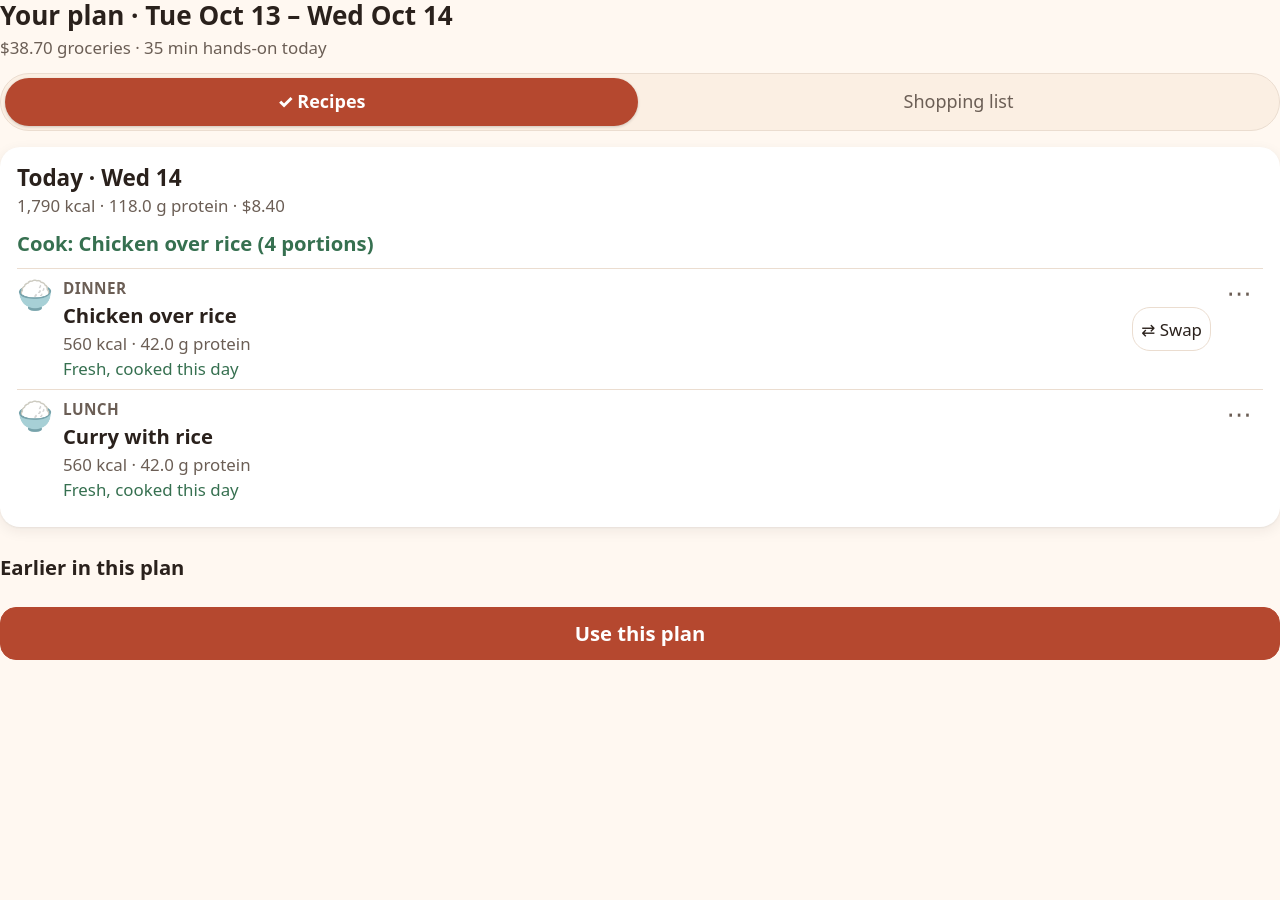
it: Swap in the plan view › the meal row's ⋯ sheet opens the same Swap sheet
Click the button named "More for Chicken over rice".
click(1239, 293)  # box [1215,269,1263,317]
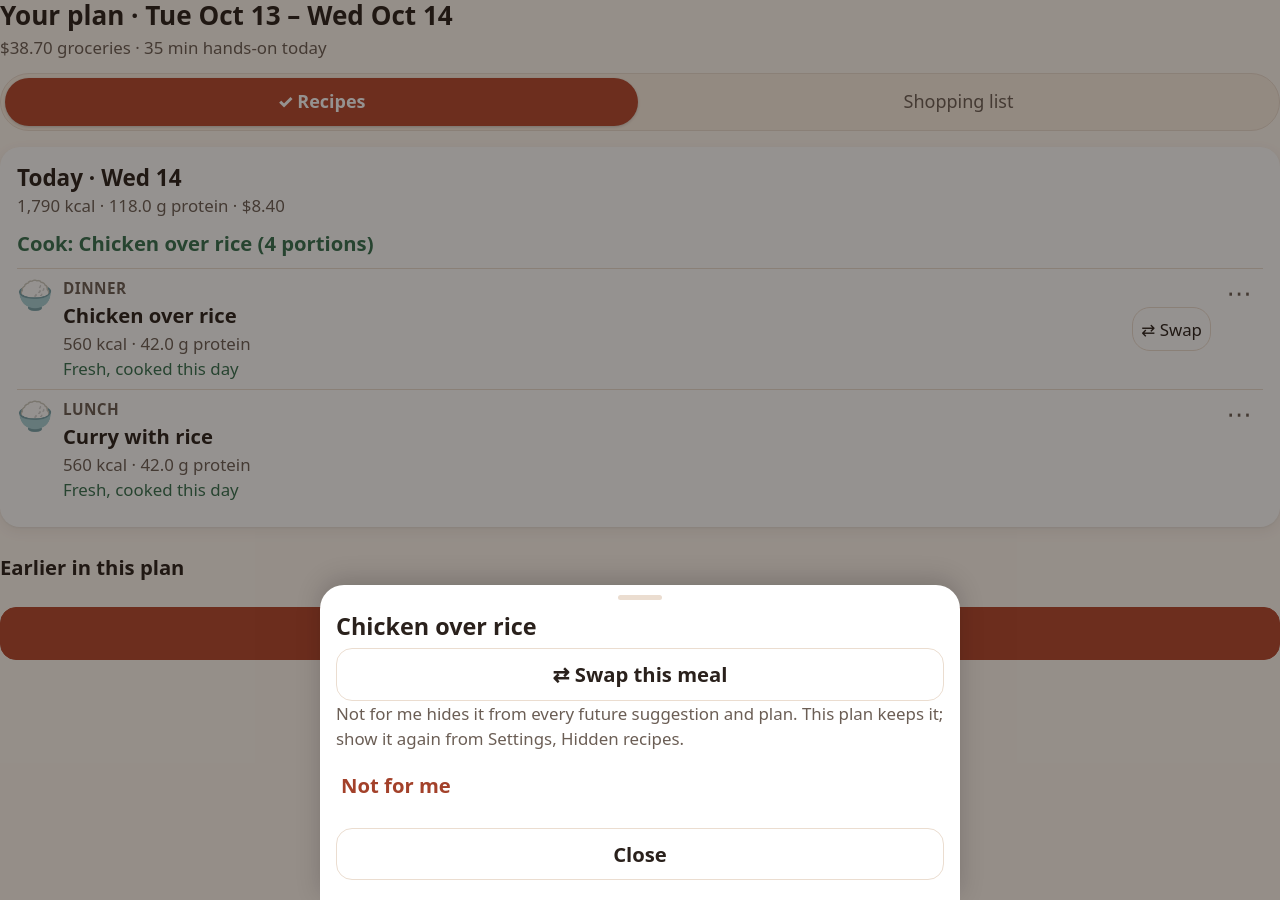
Click the button "⇄ Swap this meal".
click(640, 674)  # box [336,648,944,701]
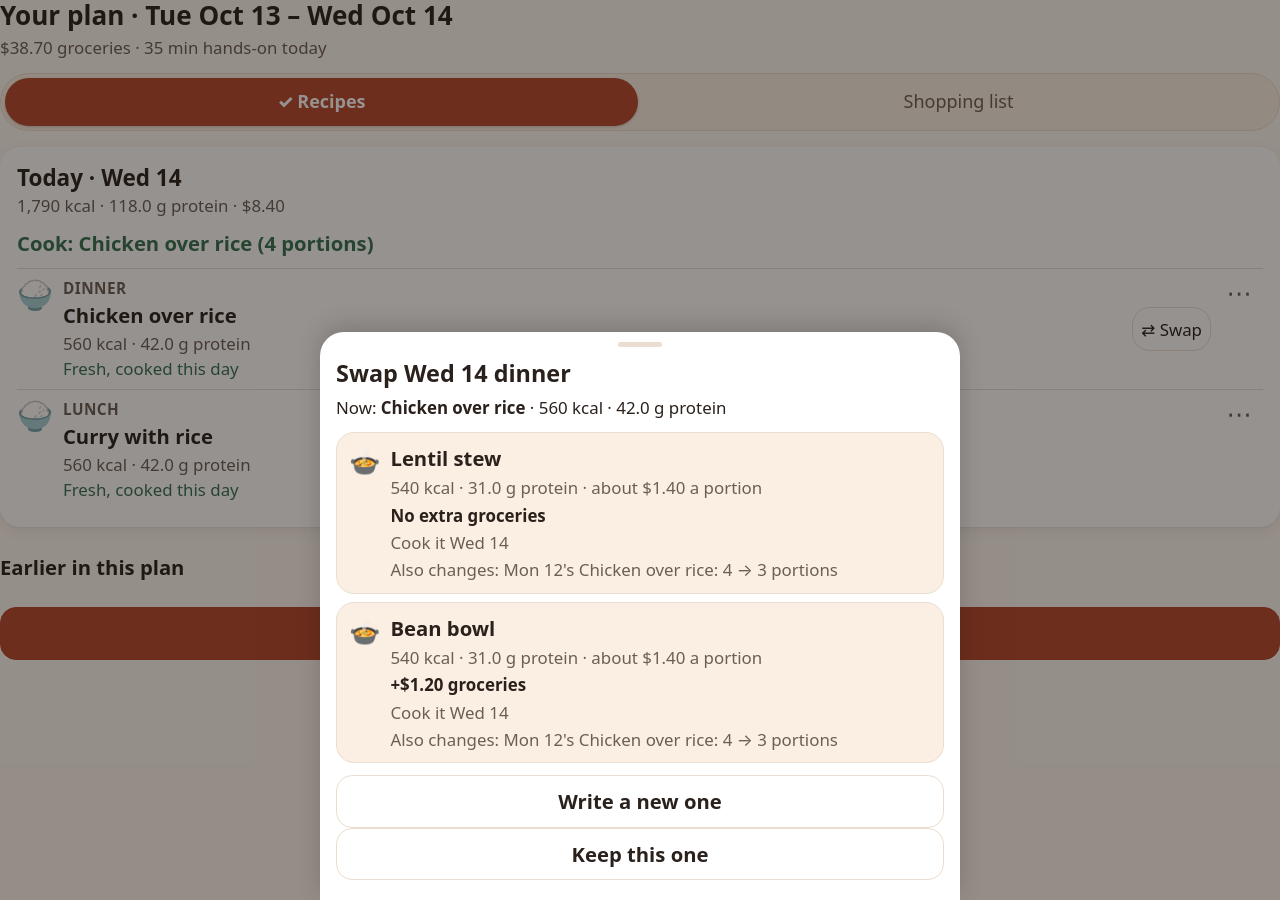
Now the dialog "Swap Wed 14 dinner" is shown, box [320,332,960,899]
Now the button with aria-label "Swap to Lentil stew" is shown, box [336,432,944,594]
